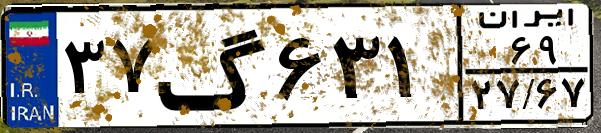1: (385, 28, 445, 110)
2: (470, 70, 495, 125)
3: (330, 28, 385, 110), (57, 26, 110, 100)
6: (270, 28, 330, 110), (508, 27, 537, 80), (535, 70, 560, 125)
7: (110, 28, 156, 98), (560, 70, 590, 125), (495, 70, 520, 125)
9: (537, 27, 568, 80)
گ: (156, 12, 270, 120)
